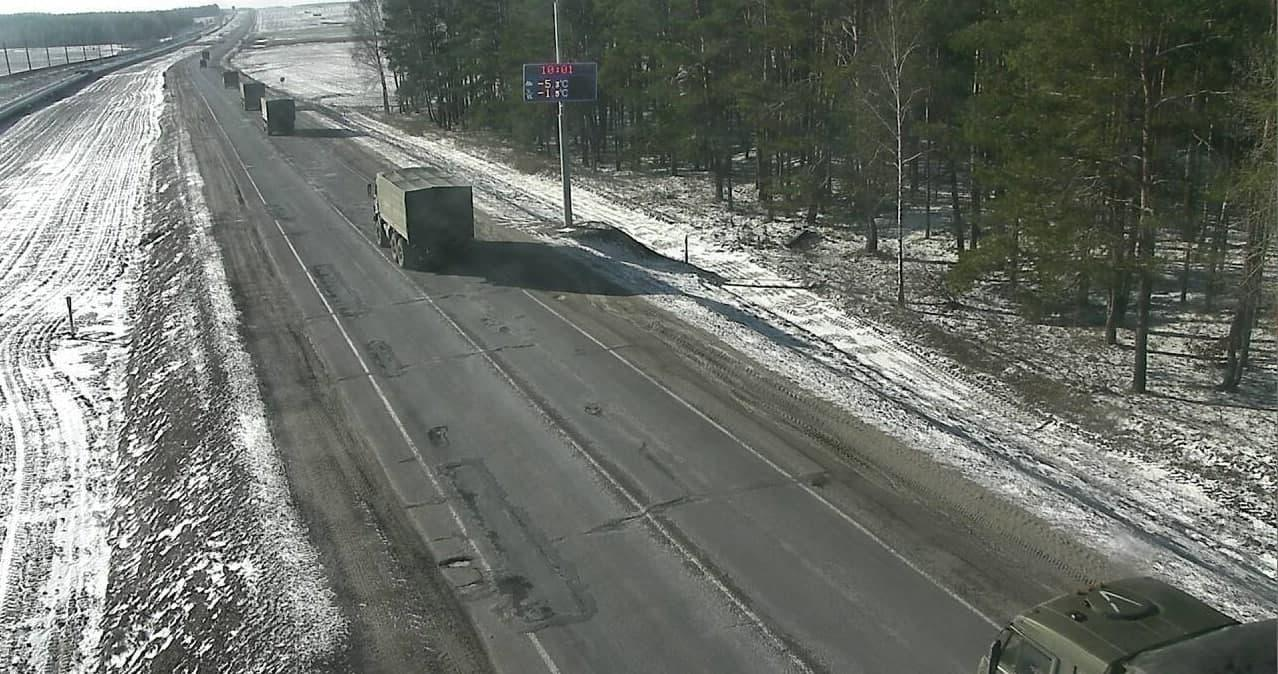truck: (962, 525, 1278, 674), (366, 163, 495, 274), (256, 96, 301, 138), (238, 80, 272, 114), (216, 70, 244, 88)
